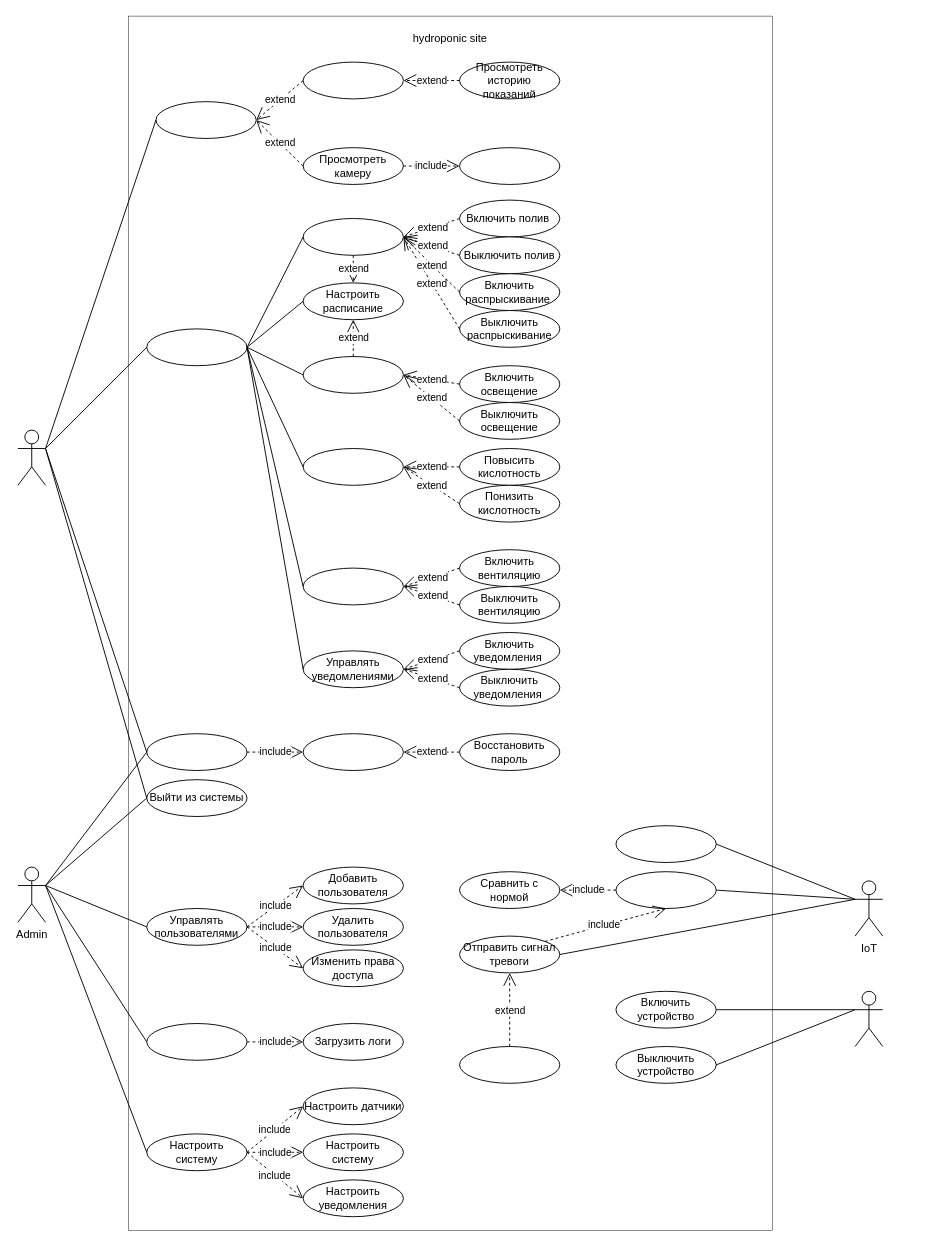
Some shapes in this 946 by 1247 pixel diagram are drawn without their labels. Each missing label, with the centre of its shape:
User: point 31,457
Ввести логин и пароль: point 352,751
Войти в систему: point 196,751
Обнаружить отклонение параметра: point 665,889
Оборудование системы: point 868,1018
Передать данные датчиков: point 665,843
Подключиться к камере: point 509,165
Получить уведомление: point 509,1064
Просмотреть данные датчиков: point 352,80
Просмотреть дашборд: point 205,119
Просмотреть логи: point 196,1041
Управление системой: point 196,347
Управлять Ph: point 352,466
Управлять вентиляцией: point 352,586
Управлять освещением: point 352,374
Управлять поливом: point 352,236
